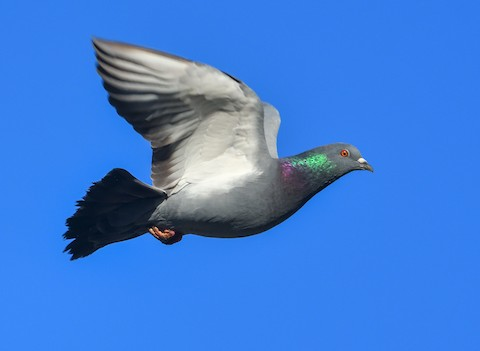pigeon: (60, 37, 376, 263)
